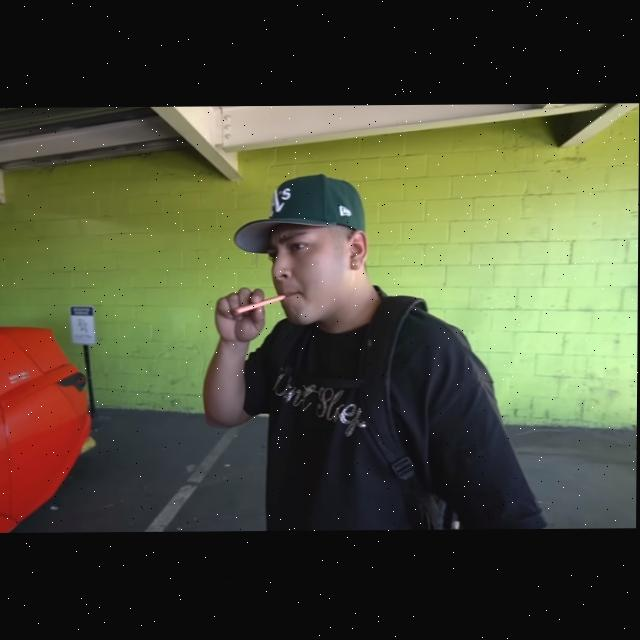vape: (229, 294, 287, 319)
